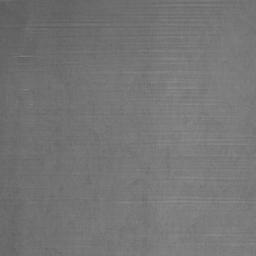Waist folding: (105, 0, 224, 118), (93, 153, 256, 205), (0, 22, 113, 29), (176, 233, 222, 237), (233, 242, 256, 247), (0, 247, 57, 249), (18, 54, 33, 59)
